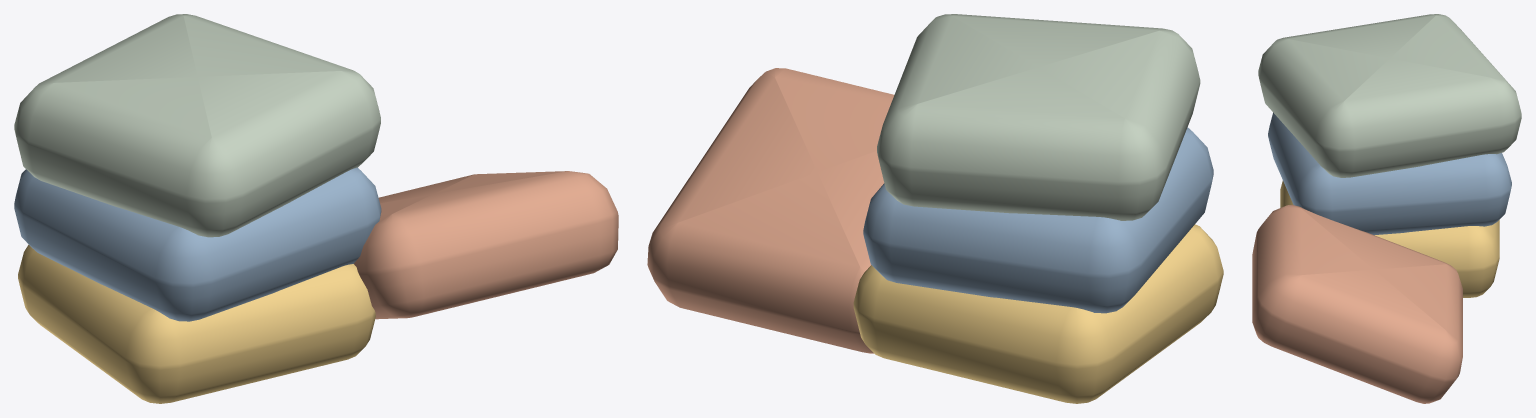
File: model-lounge-furniture-cushions-49ff31445123.glb
3 renders of one model, left to right at view 1: azimuth 30°, elevation 25°; view 2: azimuth 150°, elevation 25°; view 3: azimuth 270°, elevation 25°, orthographic. The views are drawn at different scales.
Parts seen in each view (by area): view 1: cushion-set-4; view 2: cushion-set-4; view 3: cushion-set-4.
Boxes of the visible parts, x1,y1,x2,y2 form: cushion-set-4: (14,14,618,403); cushion-set-4: (647,14,1223,403); cushion-set-4: (1252,14,1521,403).
Bounding box in the file's own units: 0.9267 × 0.5203 × 0.566.
